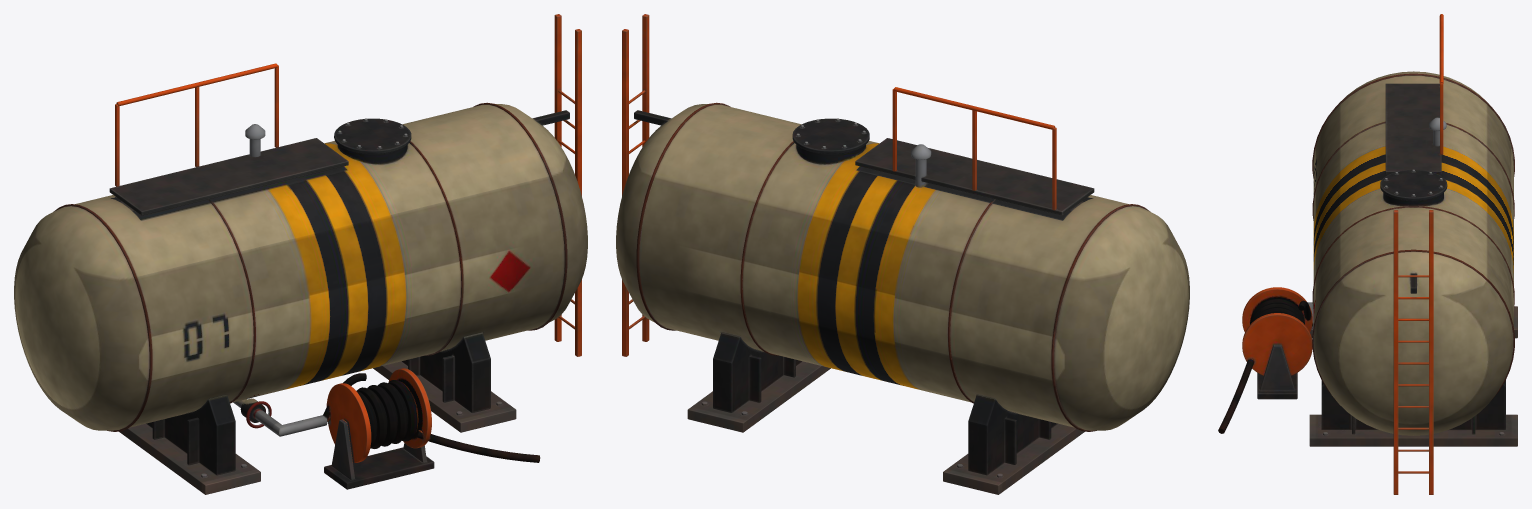
Rendered from fuel_tank.glb.
The picture shows the model from 3 angles, left to right: view 1: azimuth 30°, elevation 25°; view 2: azimuth 150°, elevation 25°; view 3: azimuth 270°, elevation 25°; orthographic projection. The views are drawn at different scales.
Visible parts, largest first — view 1: fuel_tank; view 2: fuel_tank; view 3: fuel_tank.
Boxes of the visible parts, x1=… form: fuel_tank: x1=14, y1=14, x2=587, y2=494; fuel_tank: x1=616, y1=14, x2=1189, y2=494; fuel_tank: x1=1218, y1=14, x2=1517, y2=494.
Bounding box in the file's own units: 6.61 × 4.07 × 3.74.
2 materials, 2 textured.
